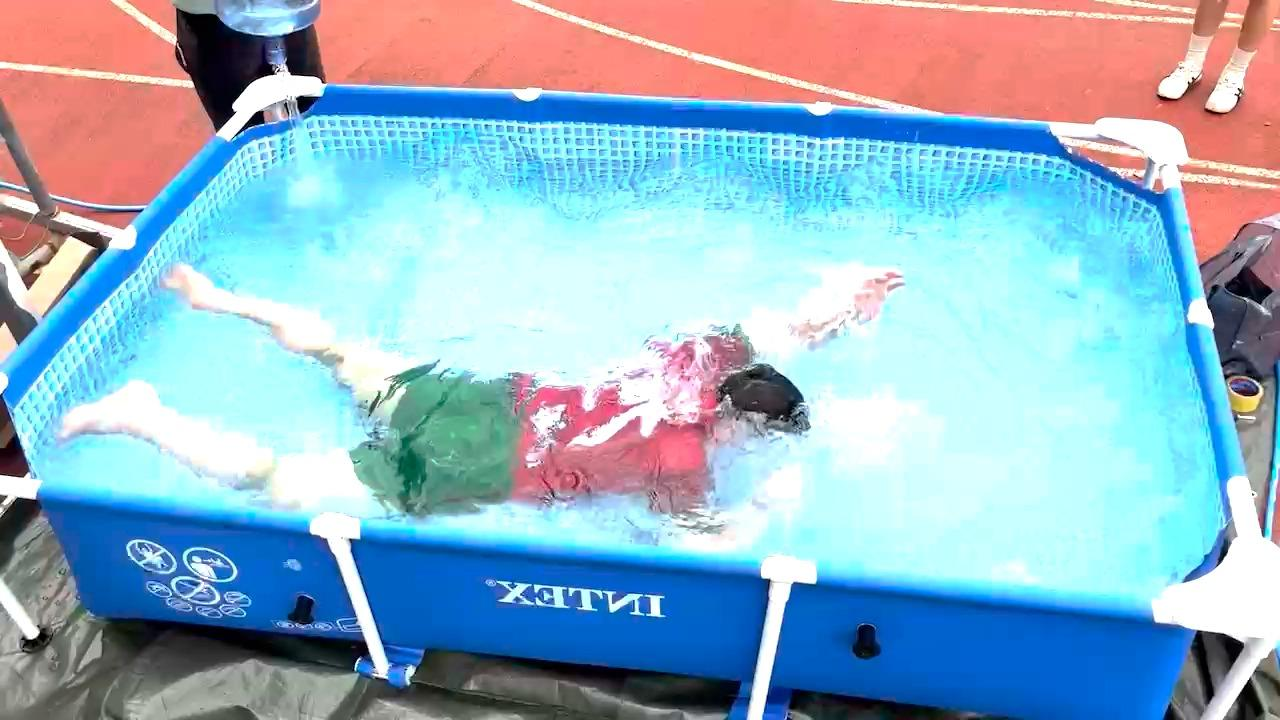Drowning: (50, 223, 940, 521)
